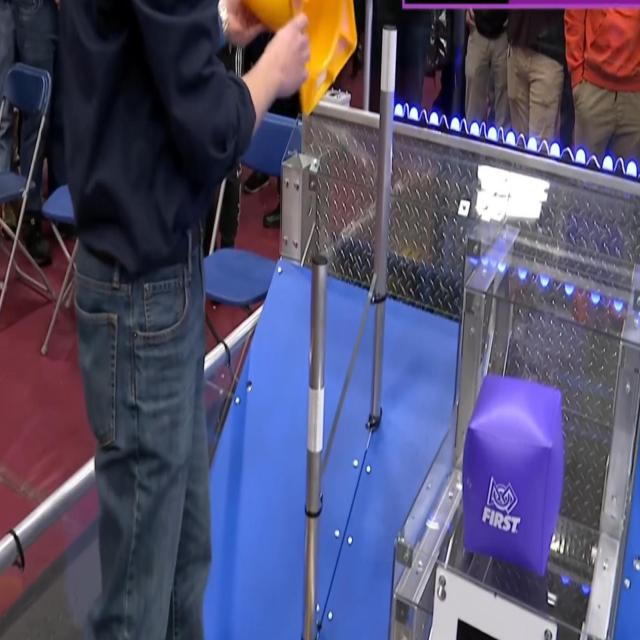frc_cone: (241, 0, 360, 121)
frc_cube: (463, 376, 566, 574)
